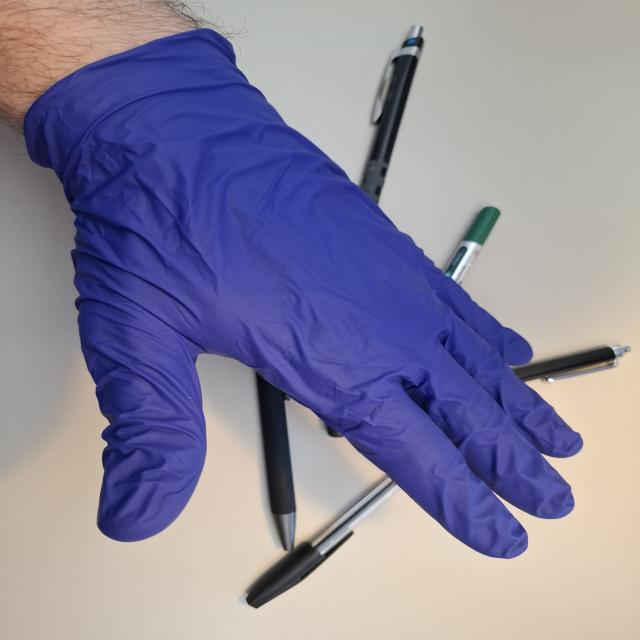glove_on: (18, 25, 588, 562)
